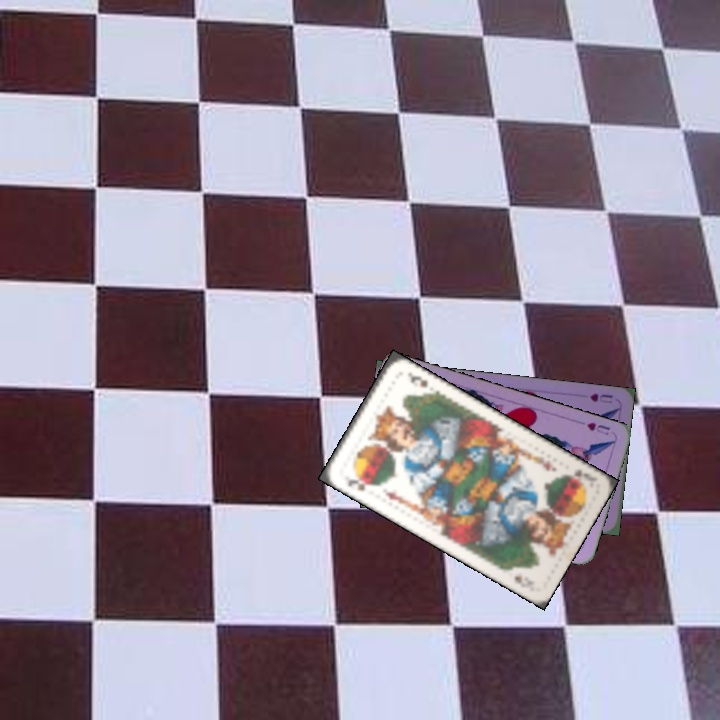HU: (582, 418, 612, 438), (585, 390, 615, 406)
SK: (341, 472, 375, 494), (560, 465, 589, 483)
